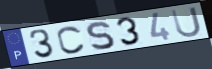3: (115, 15, 142, 47), (29, 28, 56, 59)
4: (149, 11, 172, 42)
C: (56, 25, 87, 55)
S: (85, 20, 117, 52)
U: (169, 5, 203, 39)
